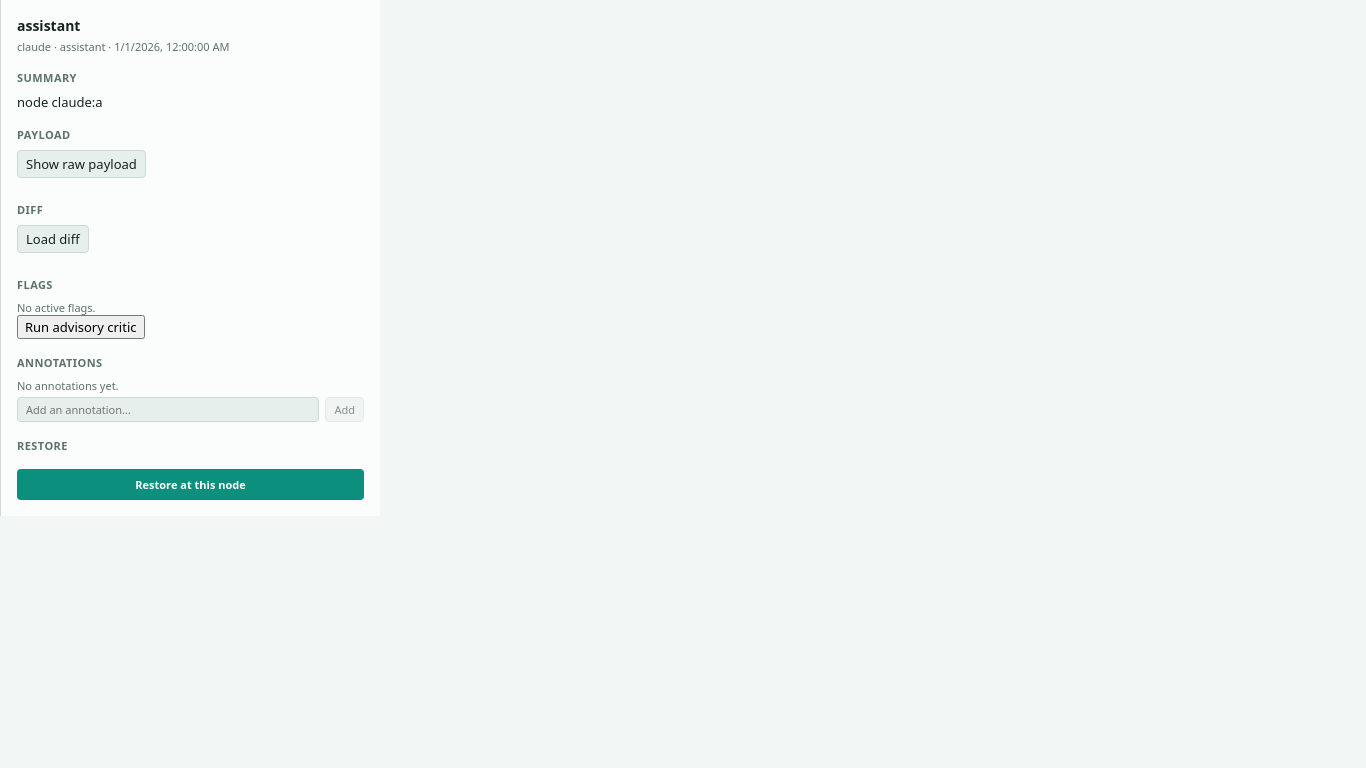
Test case: HarvestFlow / preflight › renders the file table and the preflight warnings
Click the button "Restore at this node".
click(190, 484)  # box left=17, top=469, right=364, bottom=500
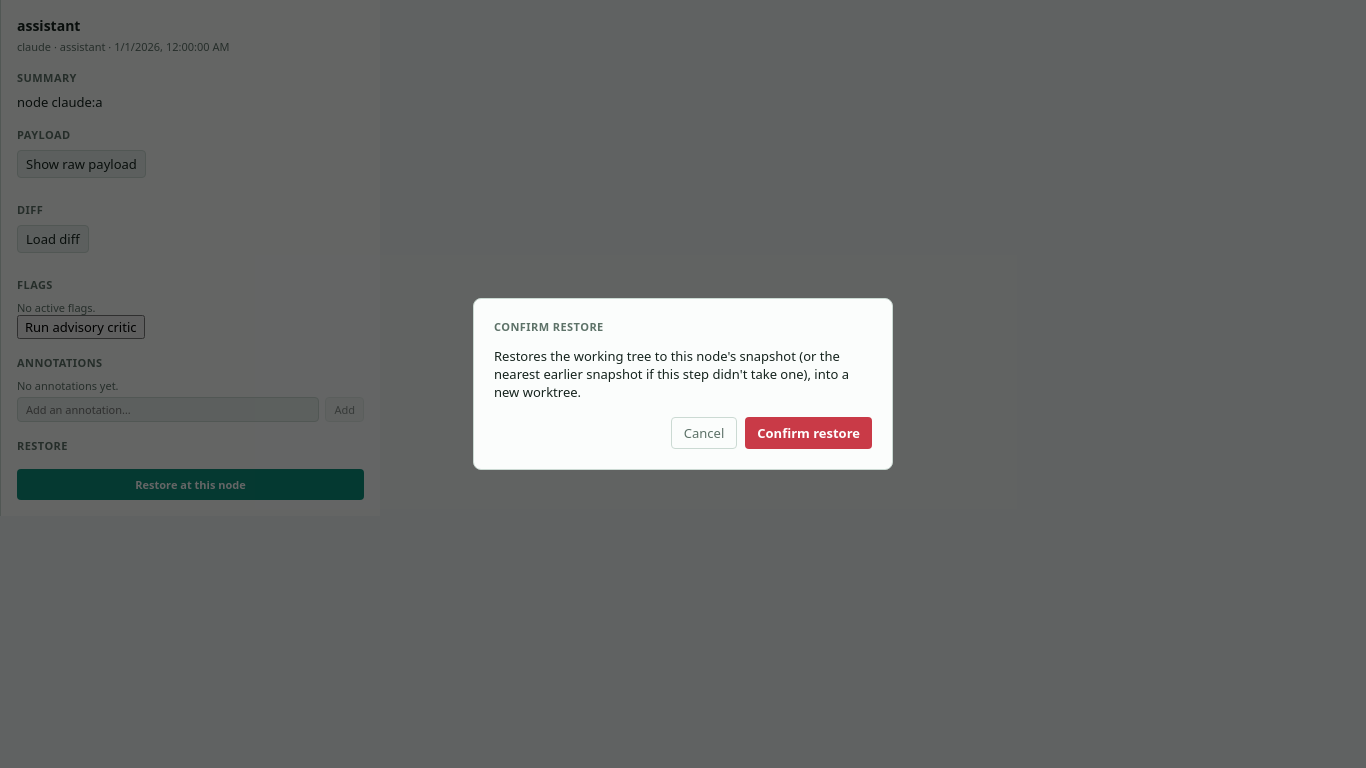
Check: the dialog is shown
Click the button "Confirm restore".
click(809, 433)  # box left=745, top=417, right=872, bottom=449
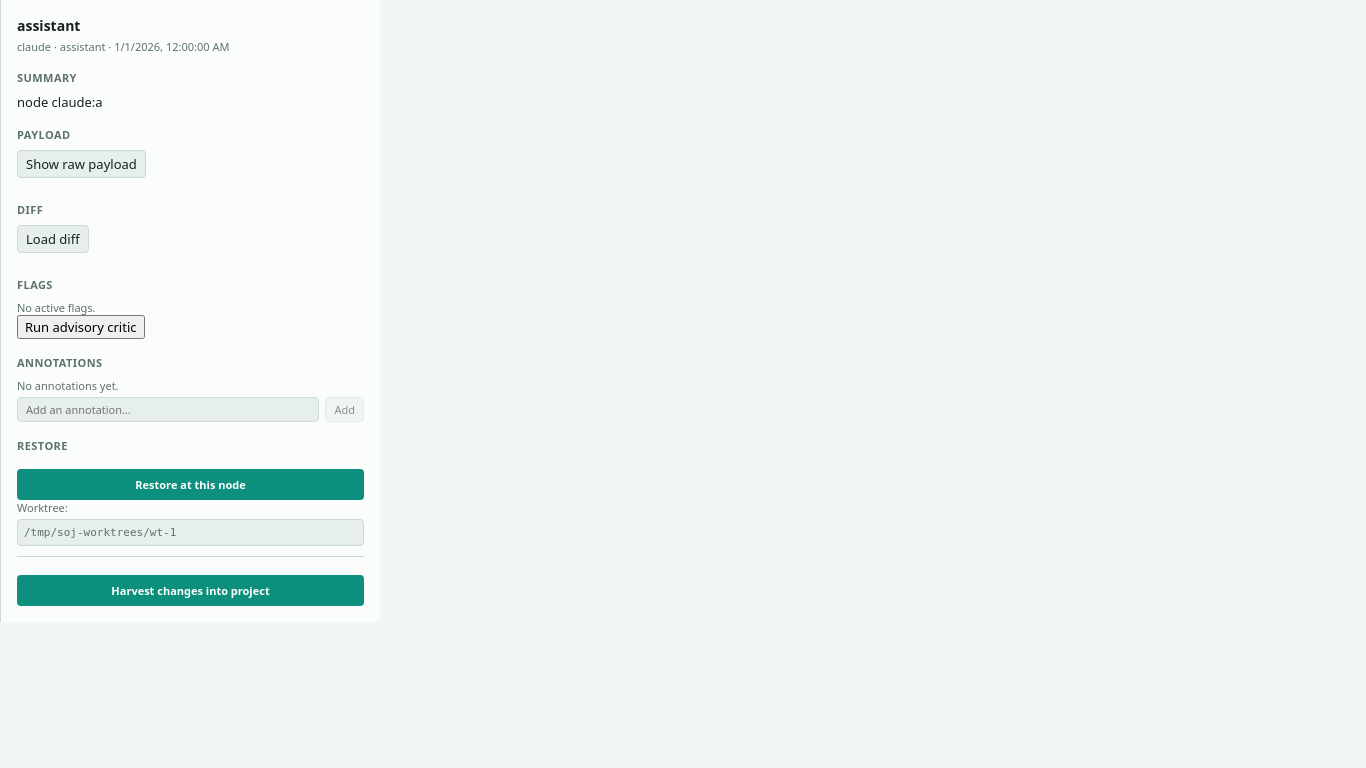
Check: the element with test id "harvest-flow" is shown, box left=17, top=556, right=364, bottom=606
Click the button "Harvest changes into project".
click(190, 590)  # box left=17, top=575, right=364, bottom=606
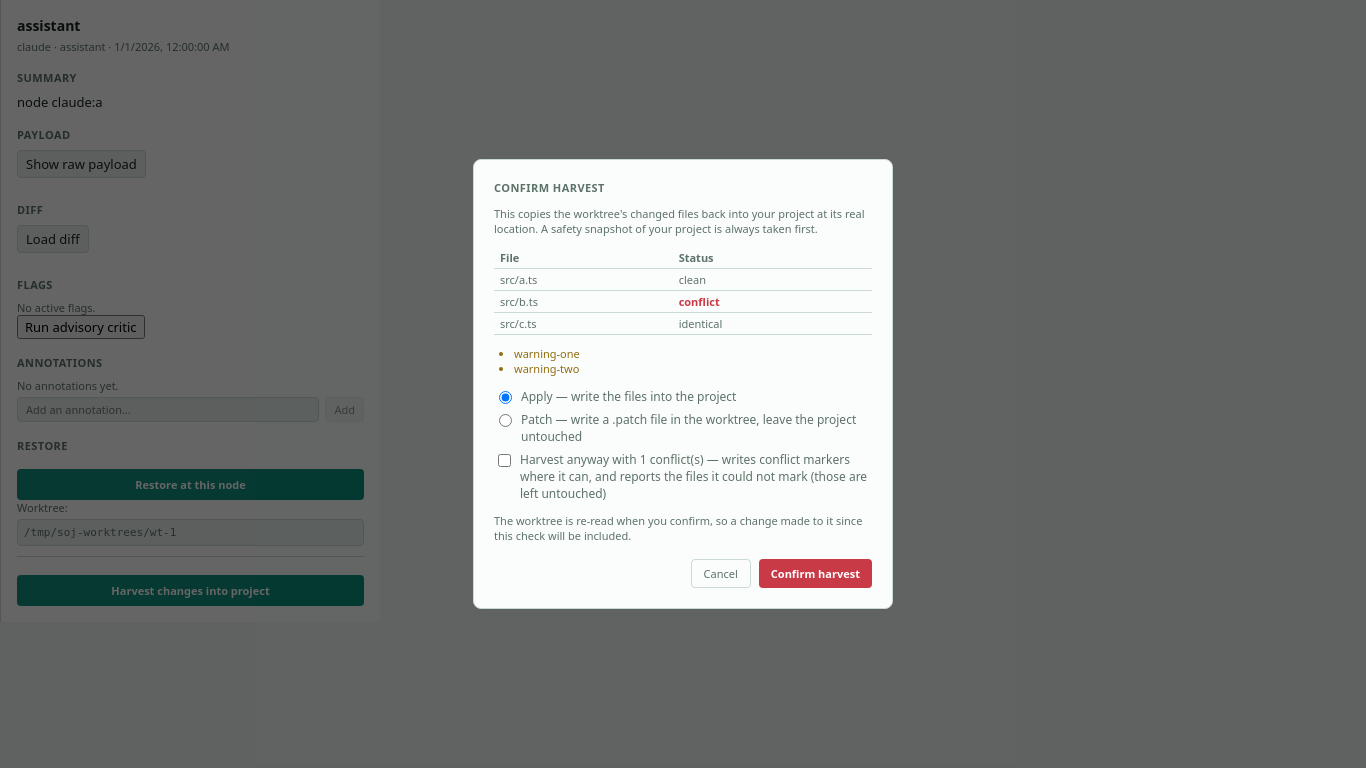
Check: the table with test id "harvest-files" is shown, box left=494, top=247, right=872, bottom=335
Check: the number of rows with test id "harvest-file-row" is 3, box left=494, top=268, right=872, bottom=290; left=494, top=290, right=872, bottom=312; left=494, top=312, right=872, bottom=334
Check: the row with test id "harvest-file-row" shows "src/a.ts", box left=500, top=272, right=537, bottom=287
